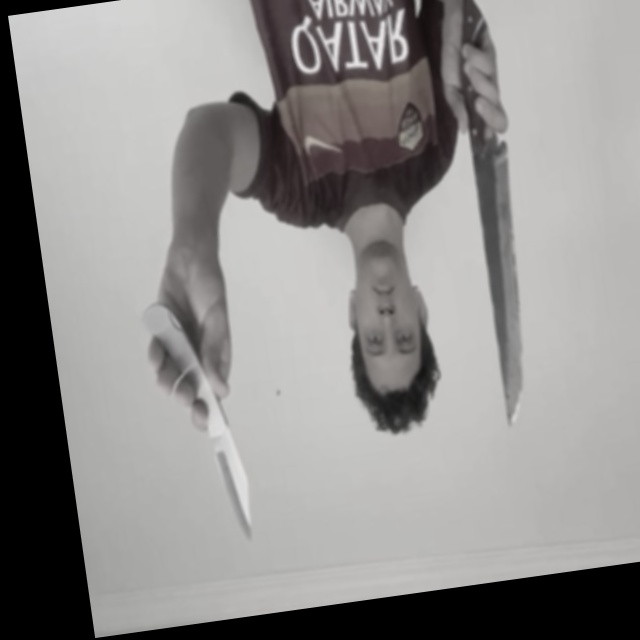Sharp-Object: (465, 138, 546, 430), (213, 435, 257, 551)
